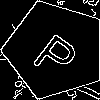P: (30, 25, 87, 81)
